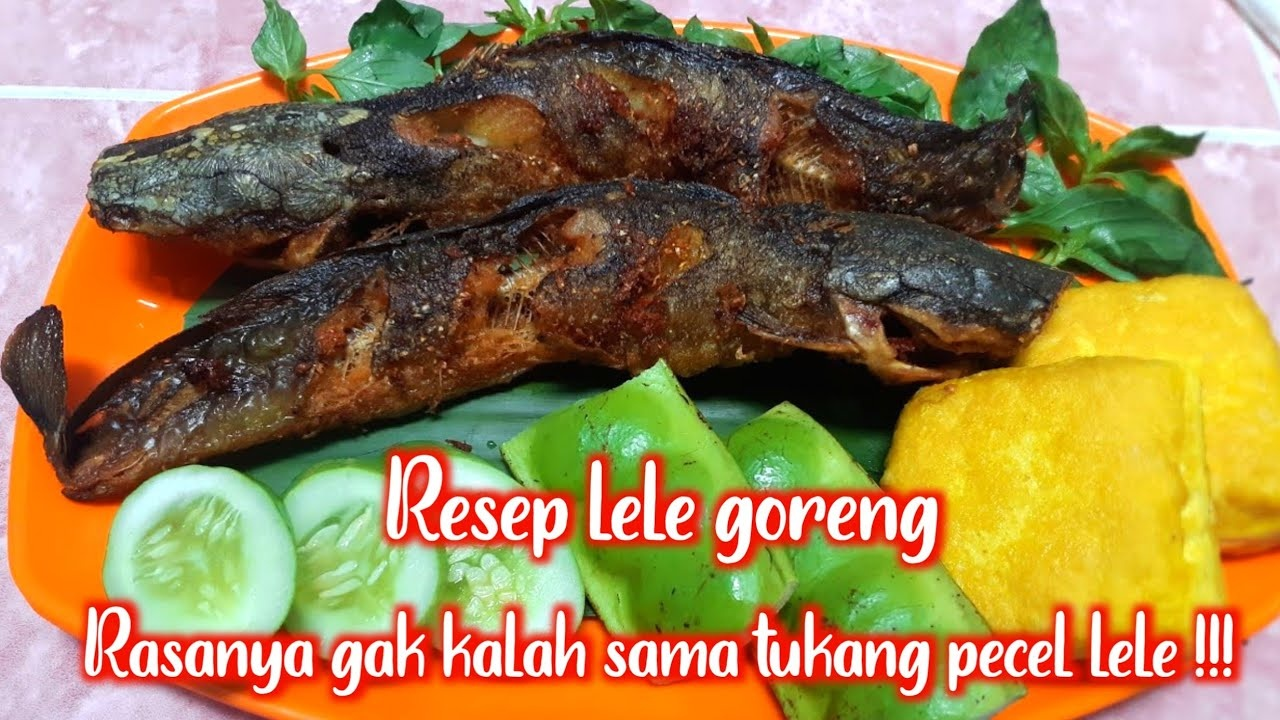pecel_lele: (59, 50, 1031, 249), (8, 193, 1010, 375)
